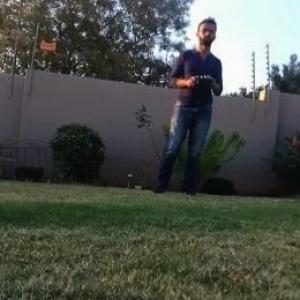follow: (144, 9, 226, 202)
